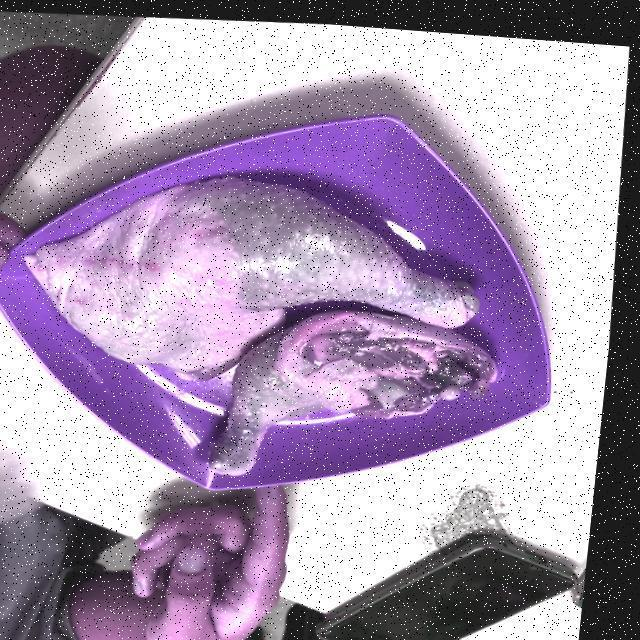quater: (42, 182, 470, 341), (220, 308, 497, 478)
